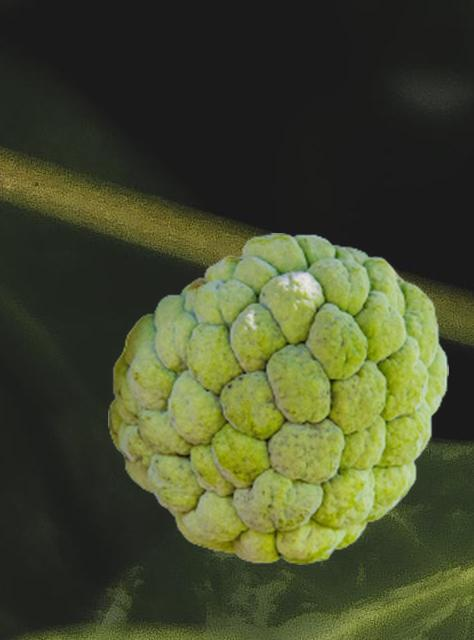atis: (108, 233, 447, 563)
